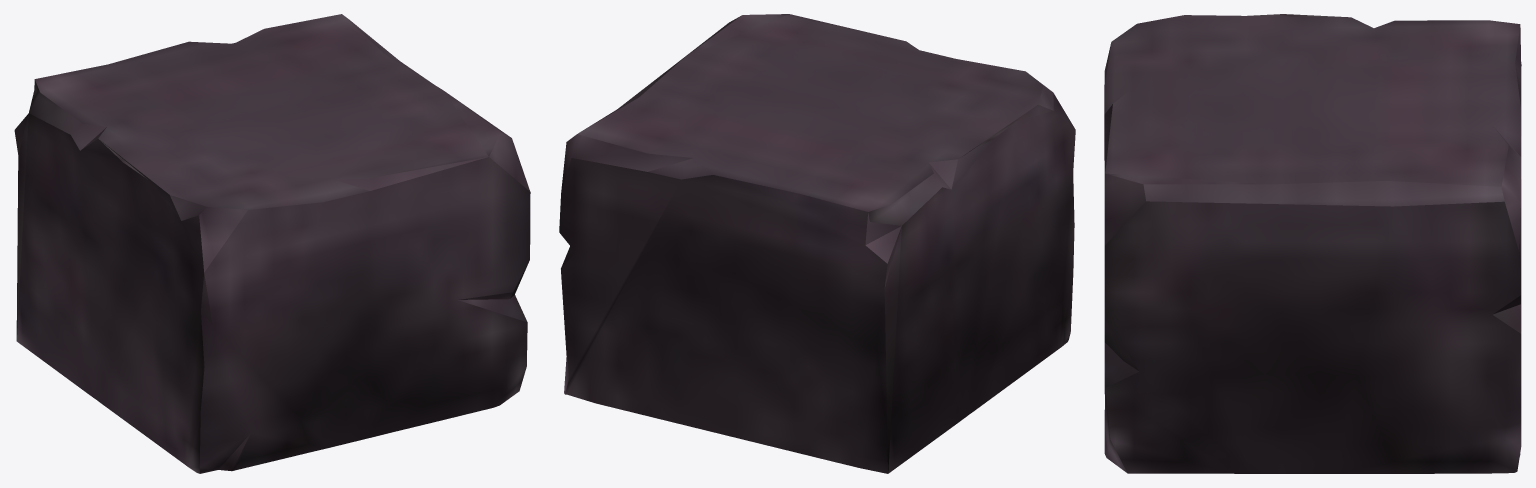
Rendered from env_ruin_block-D0kDpTW-.glb.
3 renders of one model, left to right at view 1: azimuth 30°, elevation 25°; view 2: azimuth 150°, elevation 25°; view 3: azimuth 270°, elevation 25°, orthographic. The views are drawn at different scales.
Visible parts, largest first — view 1: env_ruin_block_hy_v1; view 2: env_ruin_block_hy_v1; view 3: env_ruin_block_hy_v1.
Boxes of the visible parts, <box> form: env_ruin_block_hy_v1: <box>14,14,530,473</box>; env_ruin_block_hy_v1: <box>559,14,1075,473</box>; env_ruin_block_hy_v1: <box>1104,14,1521,473</box>.
Bounding box in the file's own units: 1 × 0.75 × 0.9986.
1 material, 1 textured.
